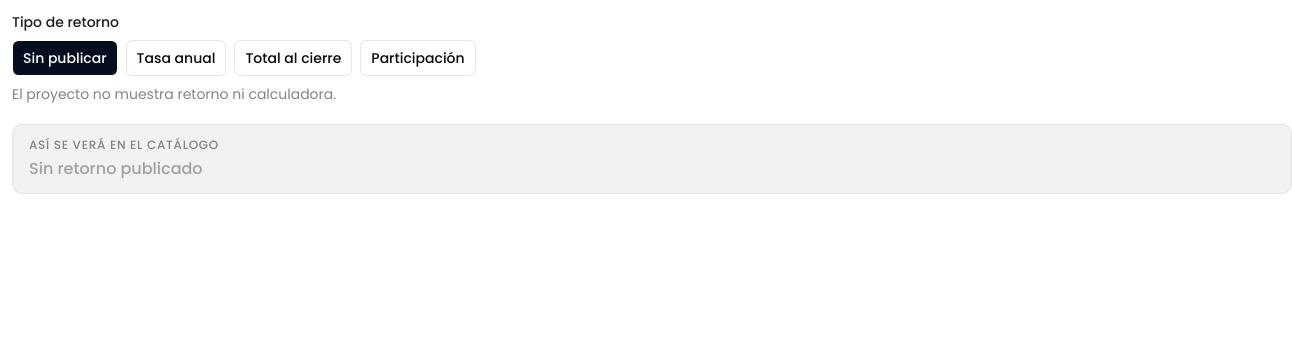
Test: annual rate by term › says what is wrong instead of a label when a value does not add up
Click the button "Tasa anual" at (176, 58), box left=126, top=40, right=226, bottom=76
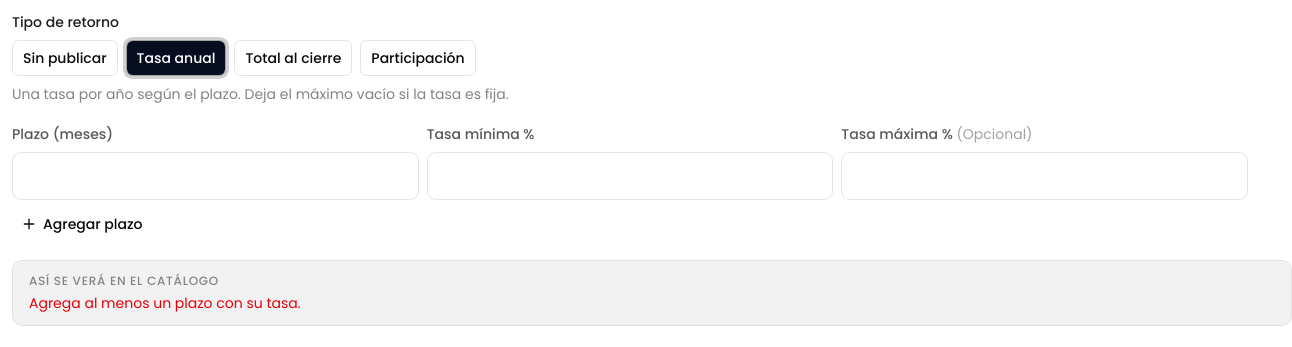
Type "12" into the field named "Plazo (meses), fila 1" at (215, 176), box left=12, top=152, right=419, bottom=200
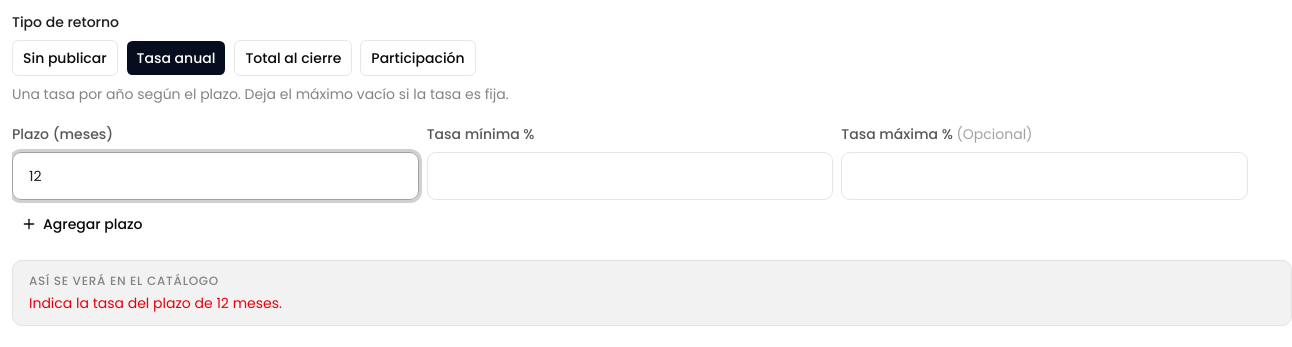
Type "15" into the field named "Tasa mínima %, fila 1" at (630, 176), box left=427, top=152, right=833, bottom=200
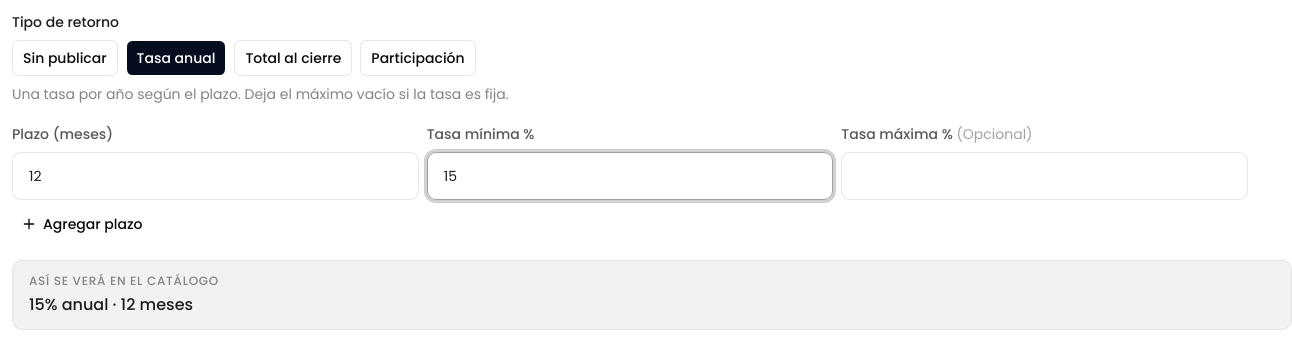
Type "10" into the field named "Tasa máxima %, fila 1" at (1045, 176), box left=841, top=152, right=1248, bottom=200
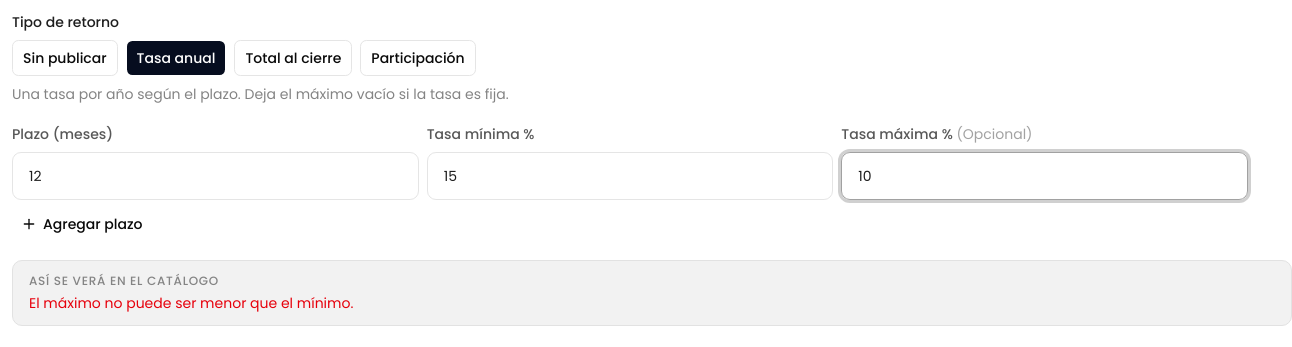
Now the text "El máximo no puede ser menor que el mínimo." is shown, box left=29, top=293, right=353, bottom=313
